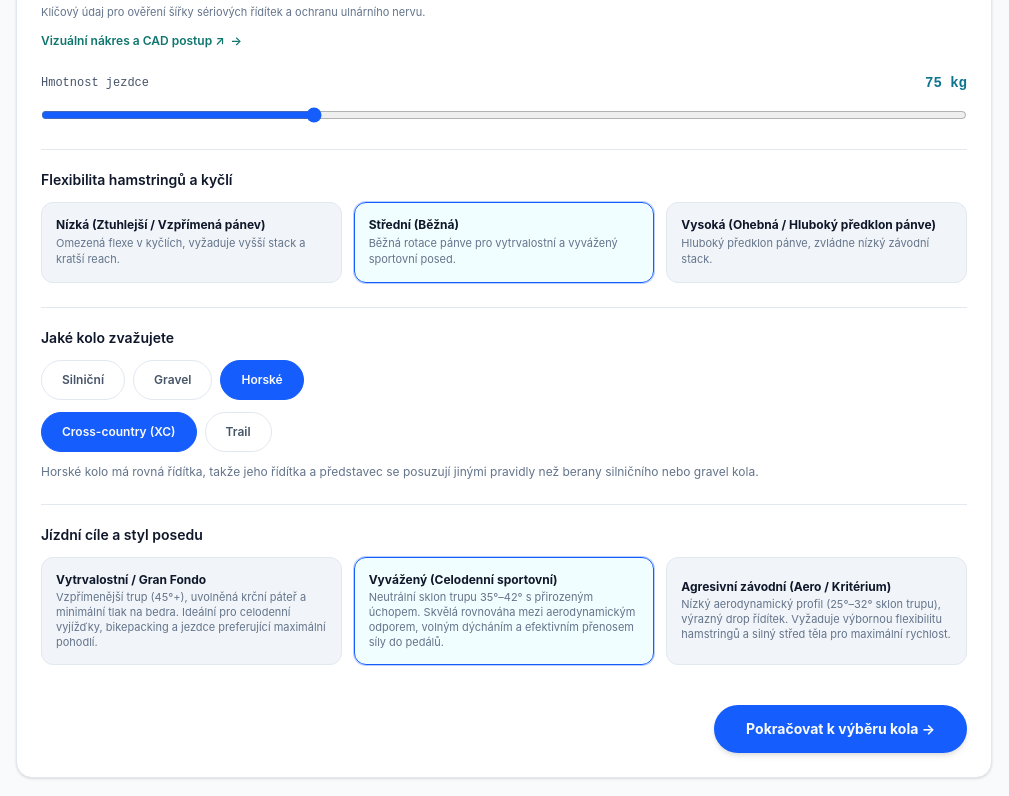
Scenario: the pre-purchase audit of a mountain bike (cs) › should start from the kind of the bike of the garage, and let the rider choose another kind and XC or Trail
The image size is (1009, 796).
(page scrolled)
Click the button "Trail": (238, 432) [205, 412, 272, 452]
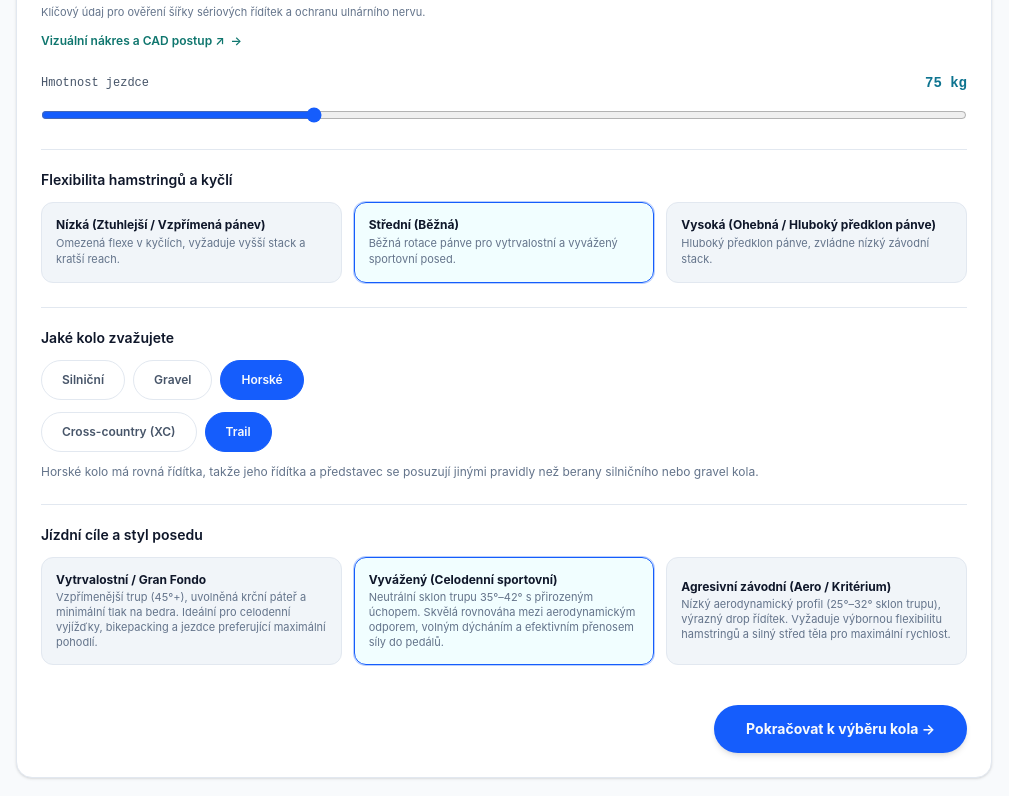
Expected: the button "Trail" is pressed, [205, 412, 272, 452]
Click the button "Silniční": (83, 380) [41, 360, 125, 400]
(page scrolled)
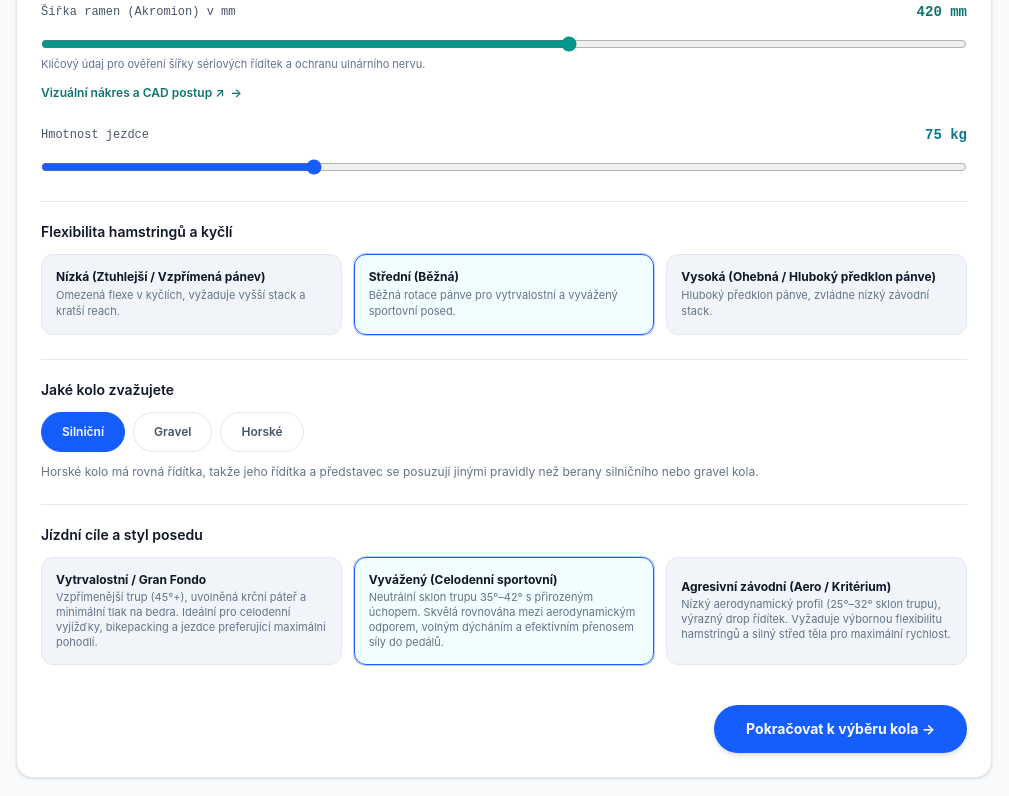
Expected: the button "Trail" is gone
